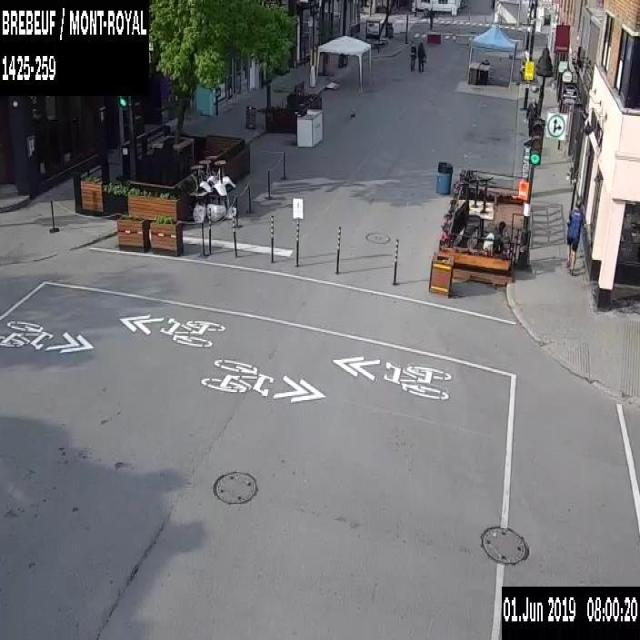pedestrian: (564, 196, 584, 276), (524, 93, 536, 135), (408, 40, 416, 73), (417, 40, 425, 73)
